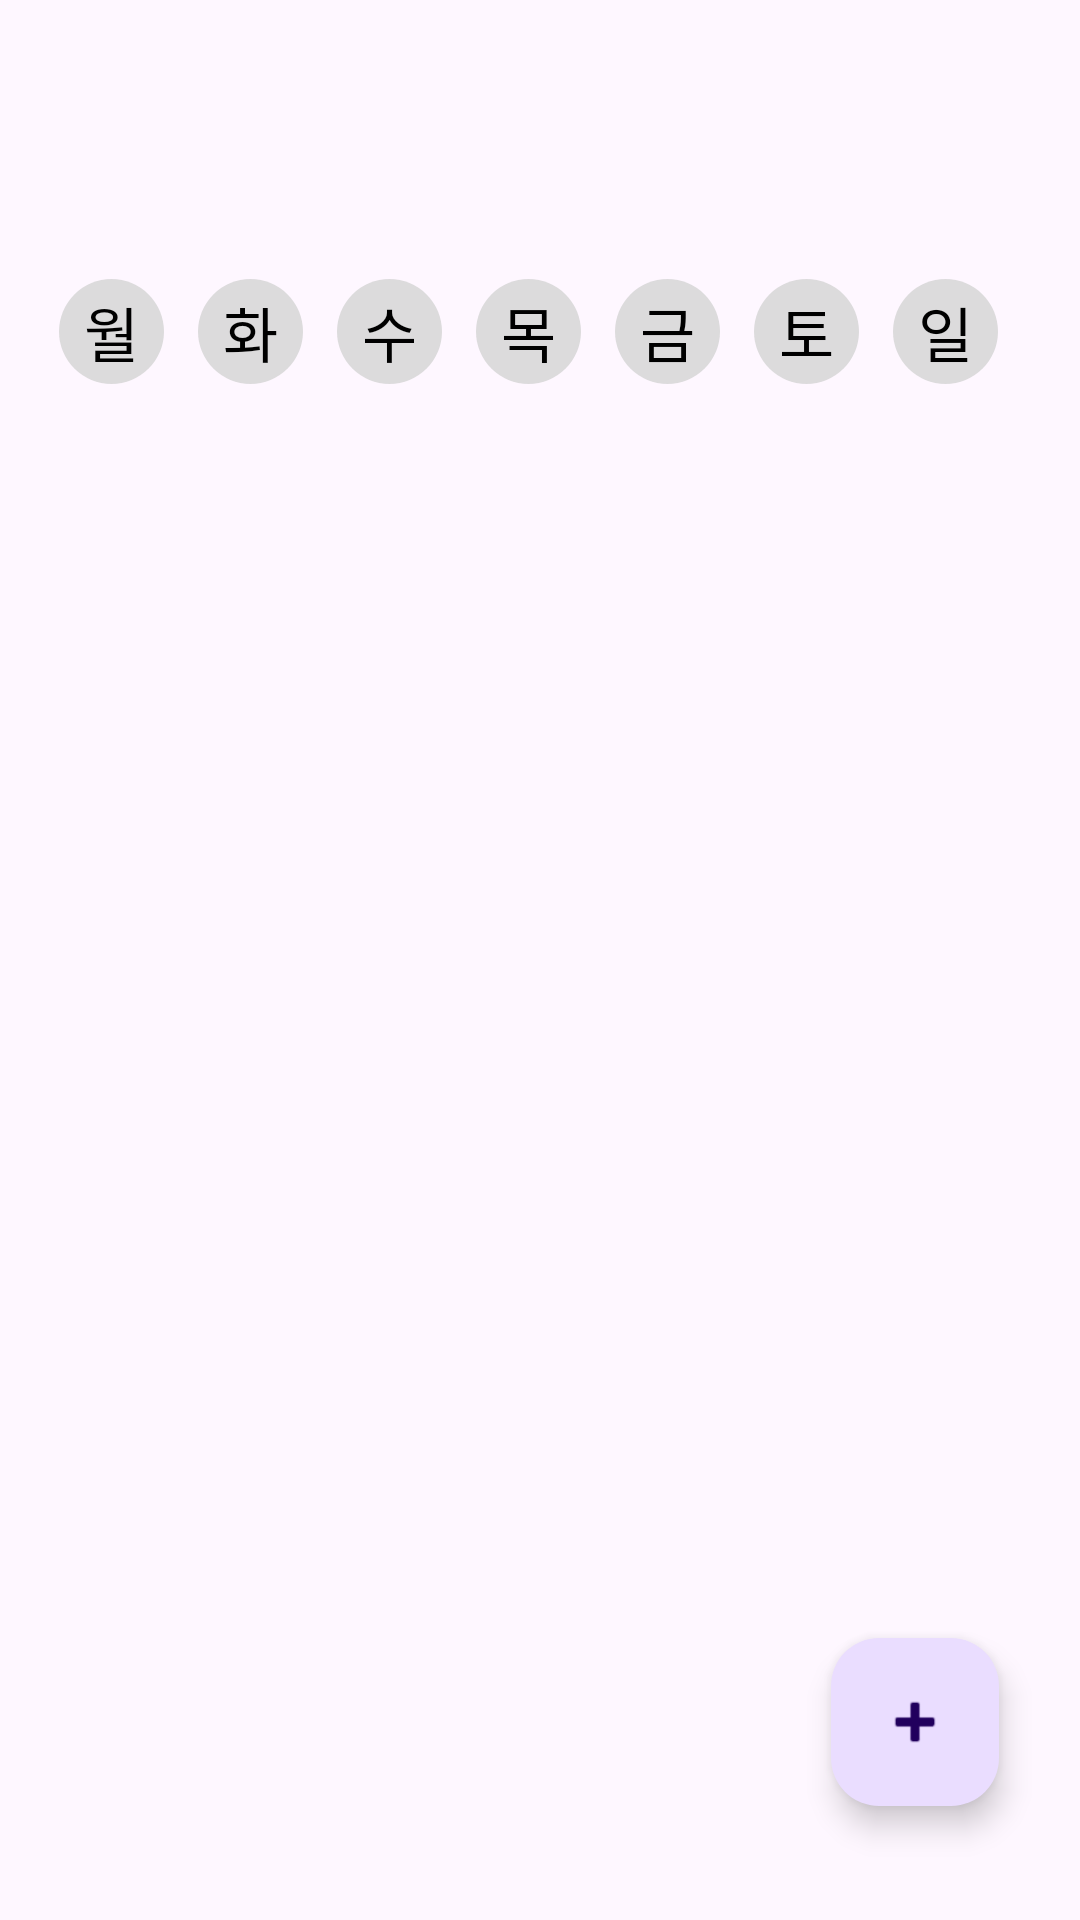

Screen size 1080*1920. Icon name, then its box in pixels as (x1, y1, x2, y2):
add: (831, 1638, 999, 1806)
